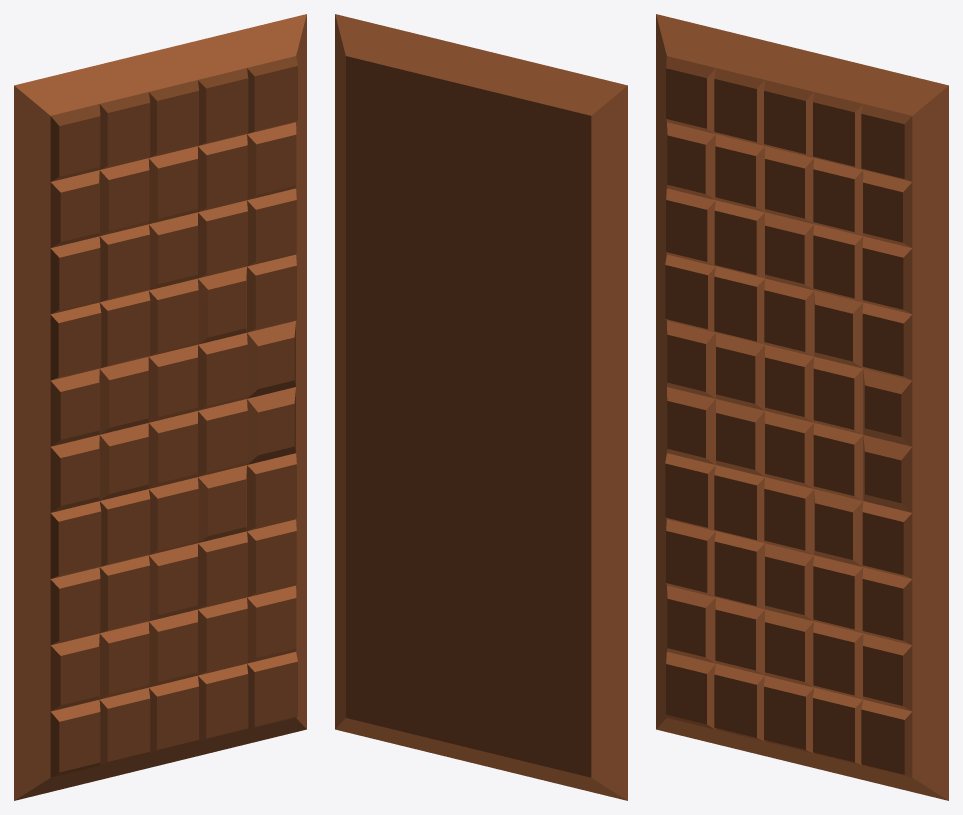
File: Chocolate.fbx
3 views of the same model, side by side, from view 1: azimuth 30°, elevation 25°; view 2: azimuth 150°, elevation 25°; view 3: azimuth 330°, elevation 25° (orthographic).
Parts seen in each view (by area): view 1: Chocolate; view 2: Chocolate; view 3: Chocolate.
Boxes of the visible parts, x1=… form: Chocolate: x1=14, y1=14, x2=306, y2=800; Chocolate: x1=335, y1=14, x2=627, y2=800; Chocolate: x1=656, y1=14, x2=948, y2=800.
Size of the model in its own units: 6.45 by 15.07 by 1.16.
